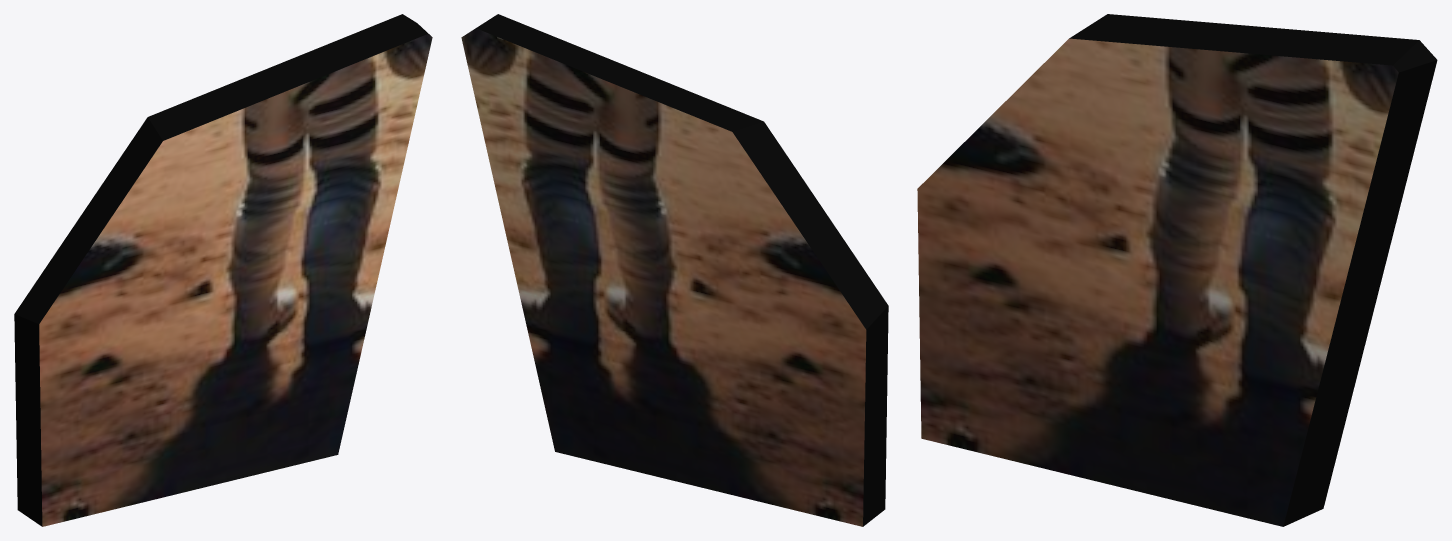
The model's file is Puzzle_2_Cell_05.glb.
The picture shows the model from 3 angles, left to right: view 1: azimuth 30°, elevation 25°; view 2: azimuth 150°, elevation 25°; view 3: azimuth 330°, elevation 25°; orthographic projection. The views are drawn at different scales.
Visible parts, largest first — view 1: Puzzle_1_cell.005; view 2: Puzzle_1_cell.005; view 3: Puzzle_1_cell.005.
Boxes of the visible parts, x1,y1,x2,y2 form: Puzzle_1_cell.005: [14, 14, 432, 526]; Puzzle_1_cell.005: [461, 14, 888, 526]; Puzzle_1_cell.005: [917, 14, 1437, 526].
Bounding box in the file's own units: 1.49 × 1.42 × 0.15.
2 materials, 1 textured.
